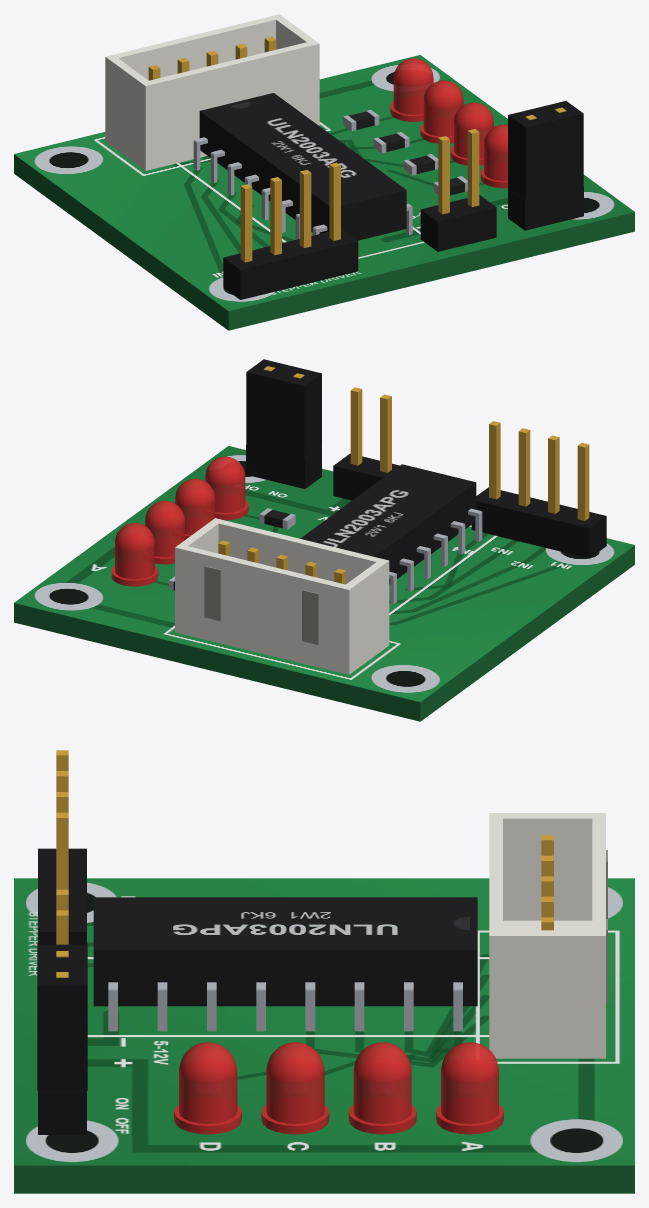
File: uln2003.glb
3 views of the same model, one above another, from view 1: azimuth 30°, elevation 25°; view 2: azimuth 150°, elevation 25°; view 3: azimuth 270°, elevation 25° (orthographic). The views are drawn at different scales.
Visible parts, largest first — view 1: pcb_silkscreen, ULN2003, socket, ULN2003_chip, pcb, led_A, led_B, led_C, led_D; view 2: pcb_silkscreen, socket, ULN2003, pcb, ULN2003_chip, led_A, led_D, led_B, led_C; view 3: pcb_silkscreen, ULN2003_chip, socket, pcb, ULN2003, led_C, led_B, led_D, led_A.
Part boxes in pixels (x1,y1,x2,y2): pcb_silkscreen: (14,55,634,310); ULN2003: (223,101,583,299); socket: (105,14,319,170); ULN2003_chip: (193,93,412,240); pcb: (14,154,634,330); led_A: (390,58,433,121); led_B: (420,80,463,143); led_C: (450,102,493,165); led_D: (480,124,507,188); pcb_silkscreen: (14,446,634,701); socket: (175,518,389,674); ULN2003: (169,359,606,590); pcb: (14,545,634,721); ULN2003_chip: (300,464,482,604); led_A: (111,523,158,586); led_D: (205,456,248,520); led_B: (145,500,184,564); led_C: (175,478,215,539); pcb_silkscreen: (14,878,634,1165); ULN2003_chip: (93,897,477,1031); socket: (489,813,607,1058); pcb: (14,1165,634,1193); ULN2003: (37,750,87,1134); led_C: (261,1042,329,1134); led_B: (348,1042,416,1134); led_D: (174,1042,241,1134); led_A: (436,1042,503,1134).
Size of the model in its own units: 3.5 by 1.02 by 3.2.
11 materials, 2 textured.
